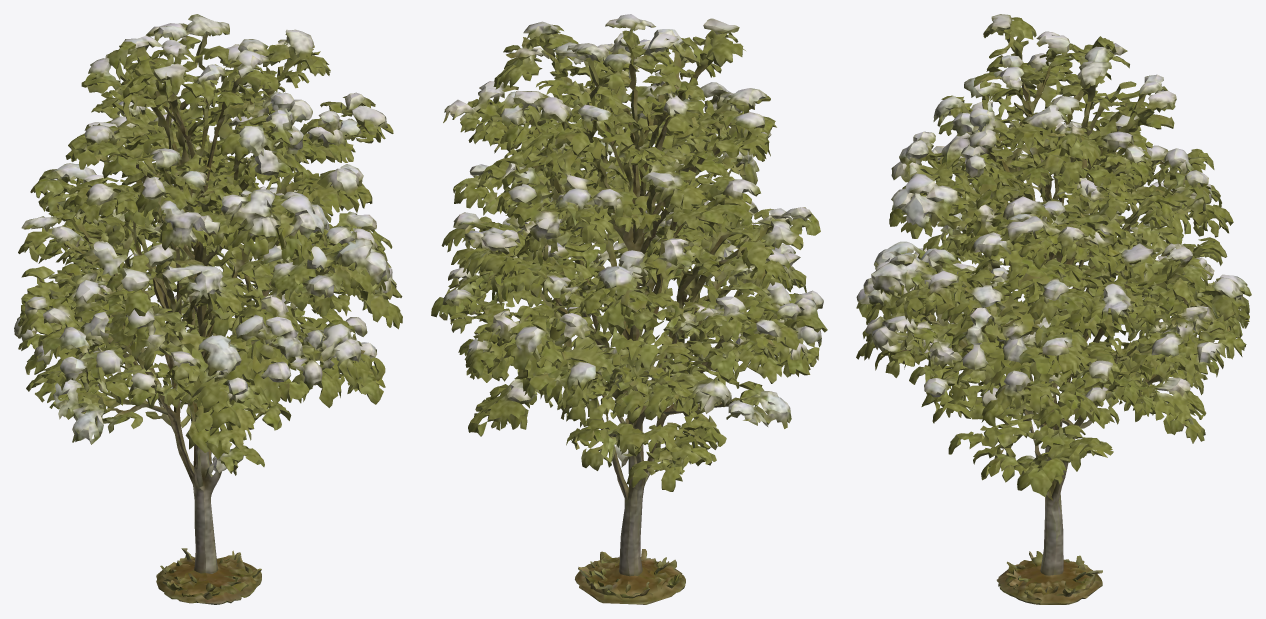
The model's file is r7-sorbus-hemsleyana.glb.
3 renders of one model, left to right at view 1: azimuth 30°, elevation 25°; view 2: azimuth 150°, elevation 25°; view 3: azimuth 270°, elevation 25°, orthographic. The views are drawn at different scales.
Parts seen in each view (by area): view 1: geometry_0; view 2: geometry_0; view 3: geometry_0.
Boxes of the visible parts, x1=… form: geometry_0: x1=14, y1=14, x2=402, y2=604; geometry_0: x1=431, y1=14, x2=827, y2=604; geometry_0: x1=856, y1=14, x2=1251, y2=604.
Size of the model in its own units: 4.09 by 6 by 4.03.
Materials: 1 (1 with a texture image).
